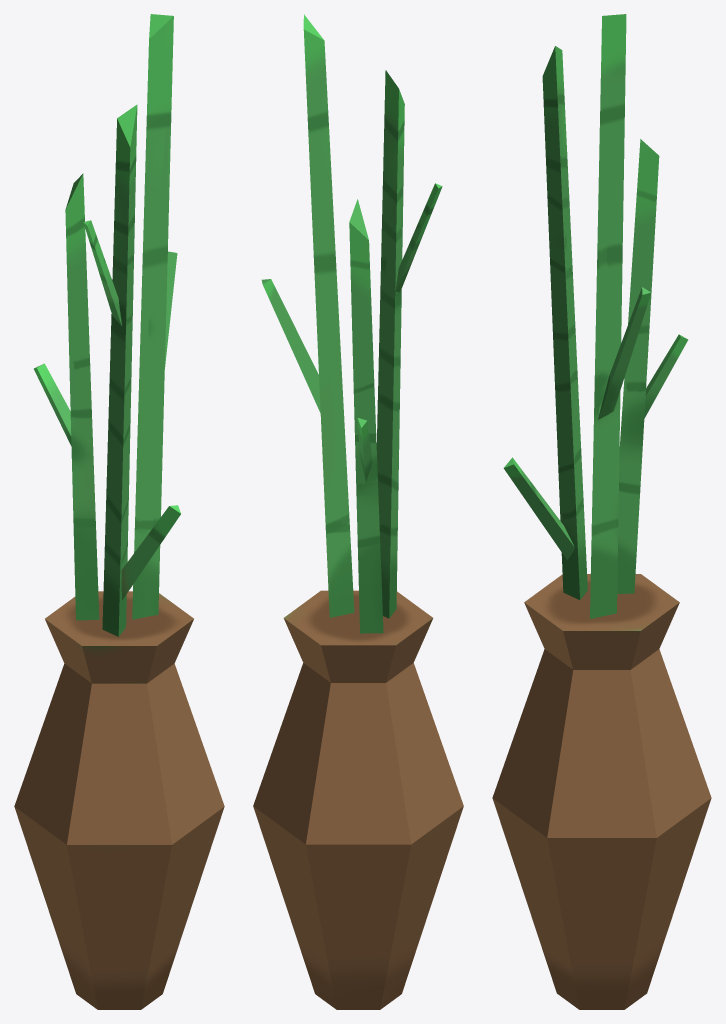
Rendered from Bambu Pot.fbx.
The picture shows the model from 3 angles, left to right: view 1: azimuth 30°, elevation 25°; view 2: azimuth 150°, elevation 25°; view 3: azimuth 270°, elevation 25°; orthographic projection. The views are drawn at different scales.
Parts seen in each view (by area): view 1: Cylinder.006; view 2: Cylinder.006; view 3: Cylinder.006.
Part boxes in pixels (x1,y1,x2,y2): Cylinder.006: (14,14,224,1009); Cylinder.006: (253,14,463,1009); Cylinder.006: (492,14,711,1009).
Bounding box in the file's own units: 83.71 × 489 × 96.66.
